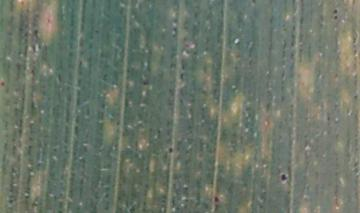tarspot: (279, 172, 287, 183), (32, 28, 39, 36), (141, 79, 149, 86), (167, 147, 174, 154), (213, 196, 220, 203), (332, 13, 339, 20), (333, 8, 339, 14), (1, 81, 6, 87)
